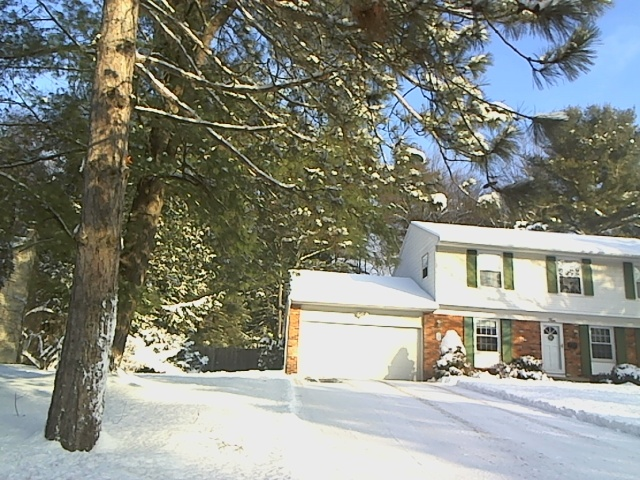Unploughed: (290, 365, 529, 467), (537, 324, 571, 400)
